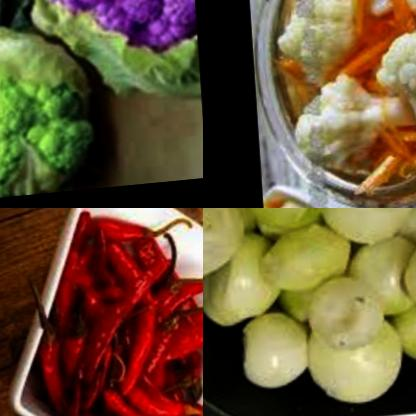carrot: (350, 137, 416, 206), (334, 12, 391, 81)
cayliflower: (6, 0, 195, 121), (0, 13, 94, 207), (284, 76, 392, 169), (266, 0, 374, 85), (366, 31, 416, 147)
hot pepper: (28, 208, 203, 416)
onion: (203, 208, 416, 416)
